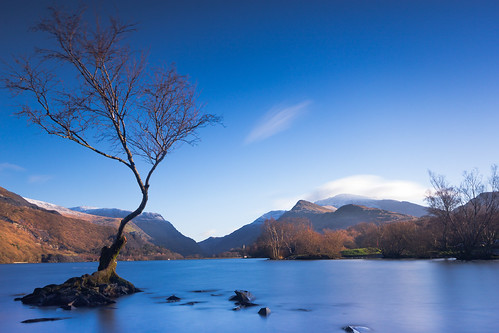mountain: (223, 177, 440, 240), (1, 178, 184, 219)
river: (8, 263, 499, 333)
sky: (1, 1, 488, 190)
tree: (32, 28, 197, 284), (416, 164, 499, 255)
